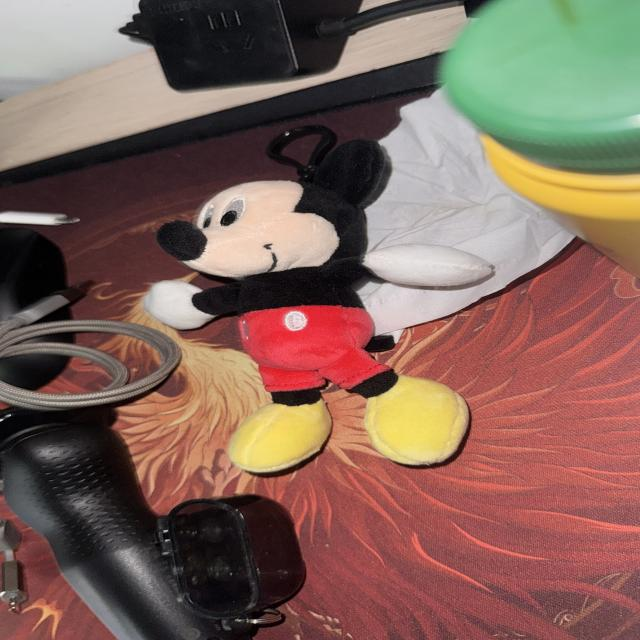mickey: (145, 140, 491, 472)
tissue: (359, 91, 573, 335)
